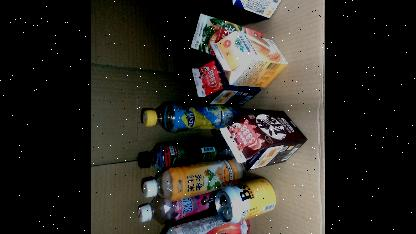Can: (216, 176, 276, 222)
Plastic Bottle: (143, 155, 243, 201), (138, 135, 230, 173), (143, 100, 242, 132), (138, 188, 224, 224), (147, 212, 250, 234)
